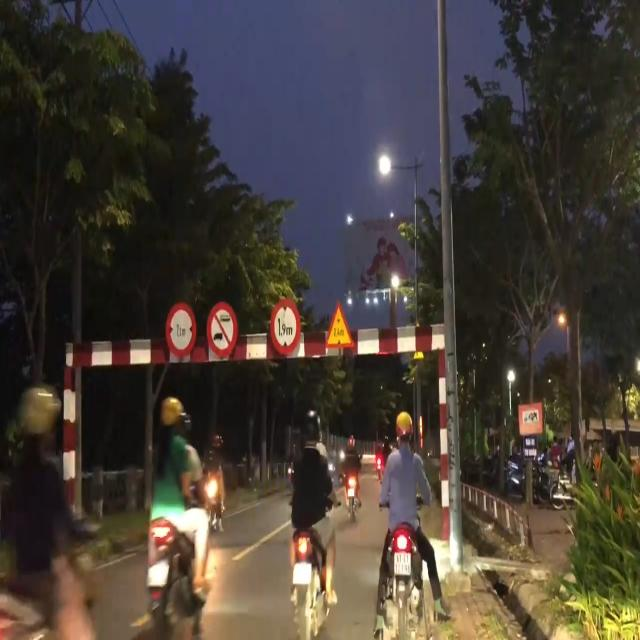Bien bao cam xe oto khach va xe oto tai: (204, 292, 242, 366)
Bien bao chieu cao tinh khong thuc te: (322, 296, 357, 353)
Bien bao han che chieu cao: (268, 294, 302, 359)
